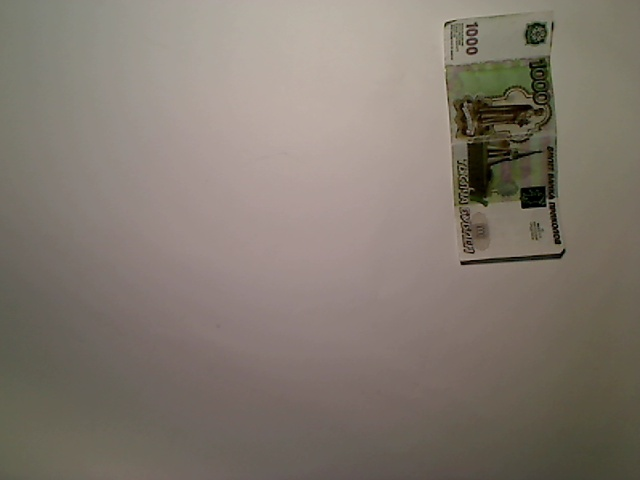banknotes: (441, 3, 568, 271)
